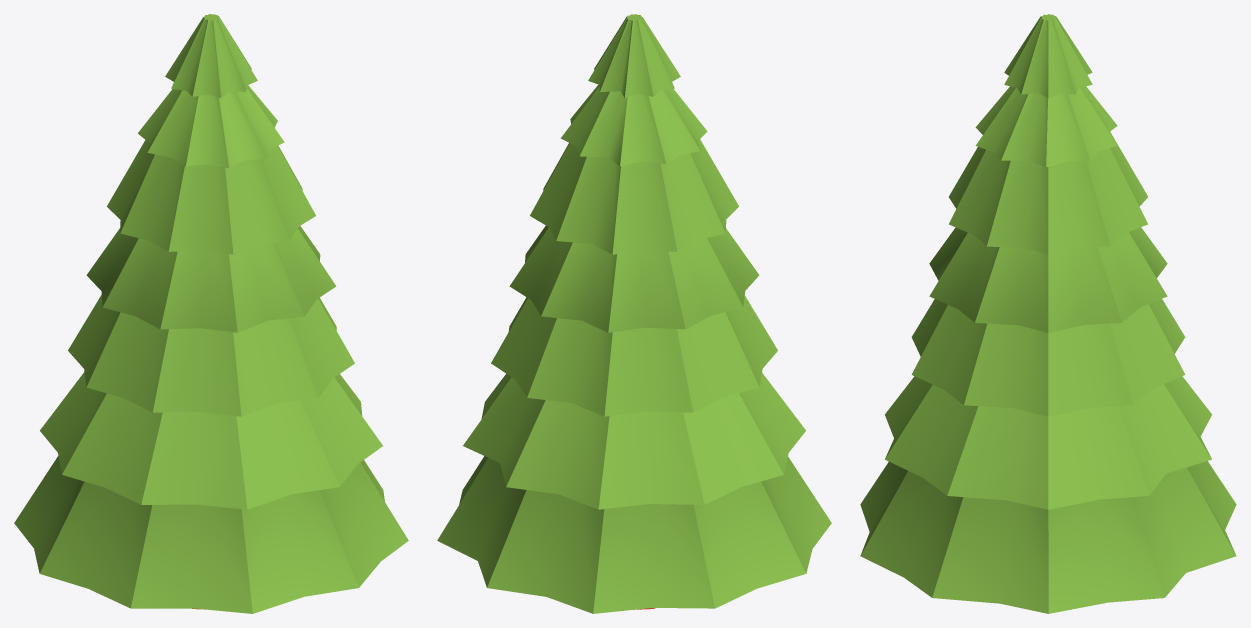
File: Tree 1.fbx
3 renders of one model, left to right at view 1: azimuth 30°, elevation 25°; view 2: azimuth 150°, elevation 25°; view 3: azimuth 270°, elevation 25°, orthographic.
Visible parts, largest first — view 1: Tree; view 2: Tree; view 3: Tree.
Part boxes in pixels (x1,y1,x2,y2): Tree: (14,14,408,613); Tree: (437,14,831,613); Tree: (860,14,1236,613).
Size of the model in its own units: 8.46 by 13.57 by 8.05.
